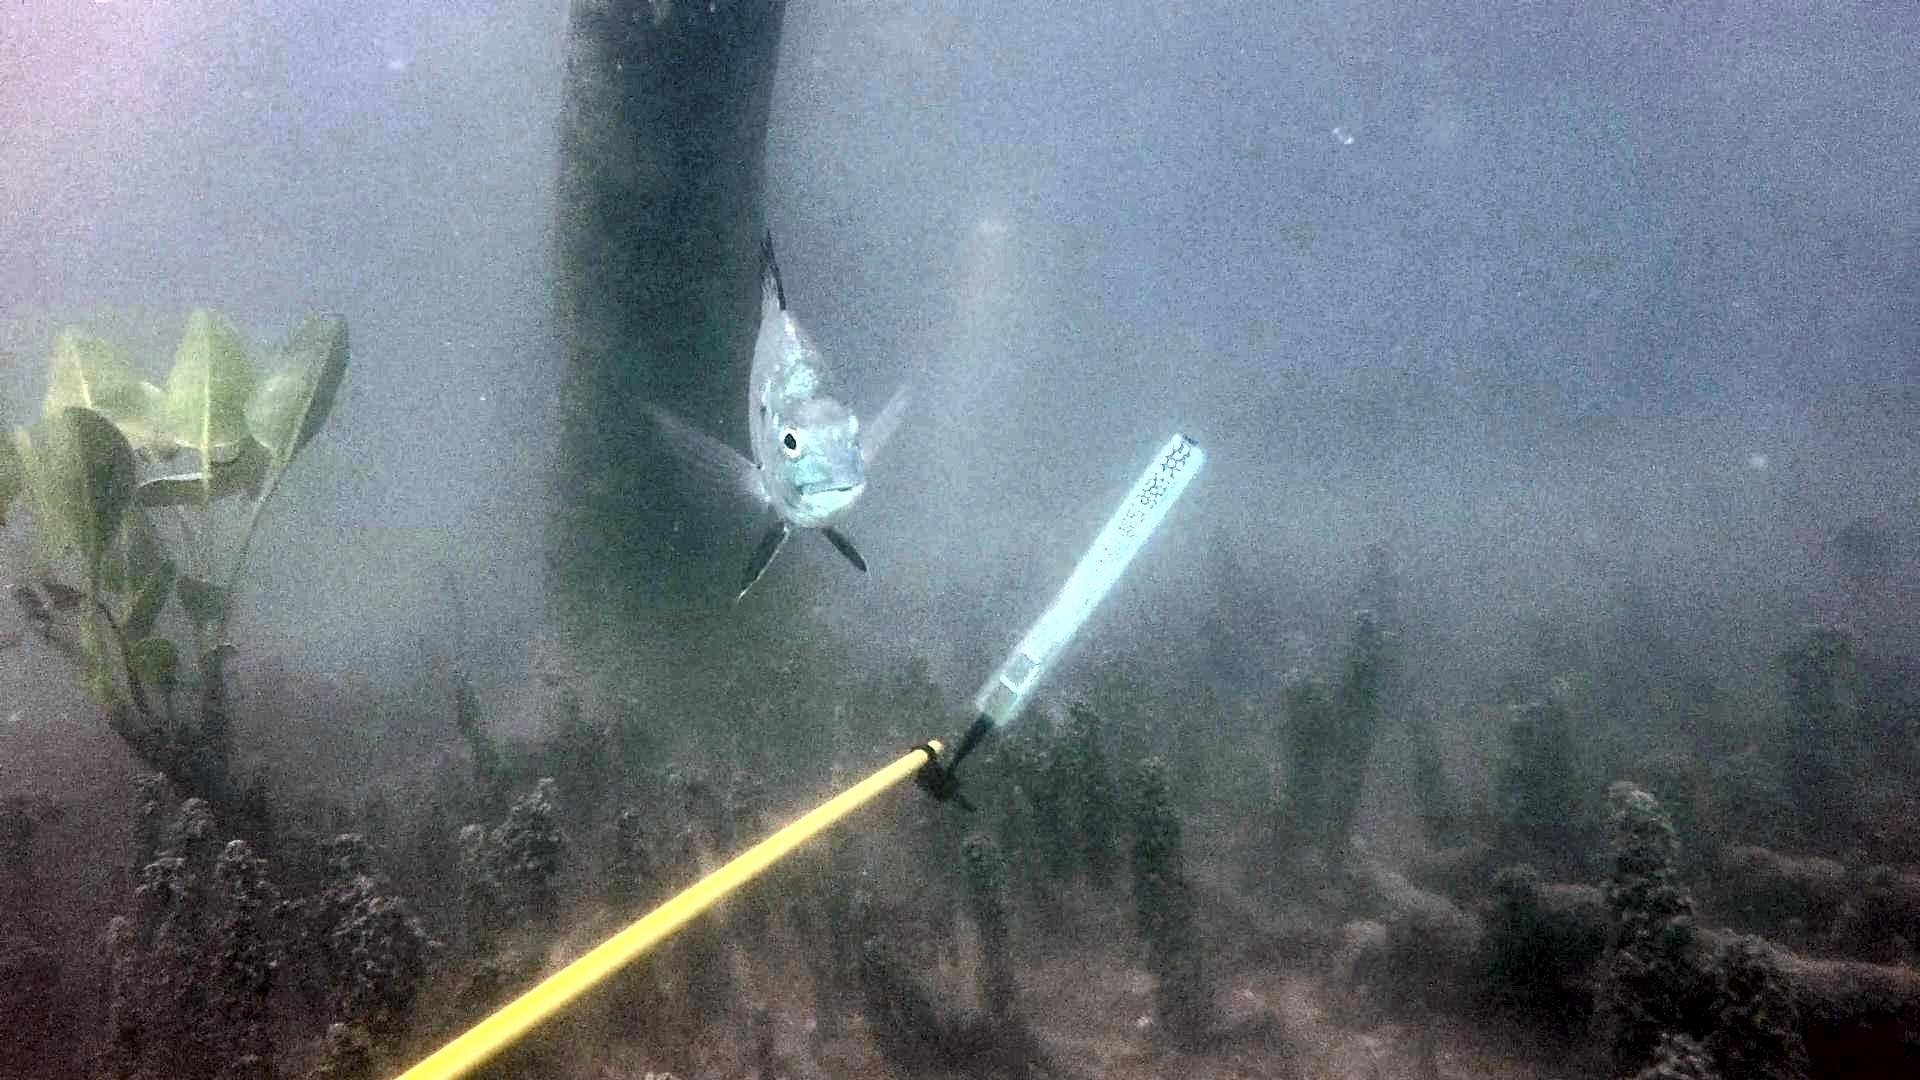acanthopagrus palmaris: (628, 210, 922, 619)
